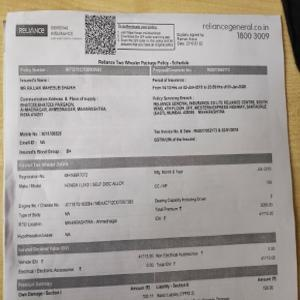image: (13, 24, 51, 38)
table: (17, 155, 275, 234)
text: (17, 64, 271, 156)
